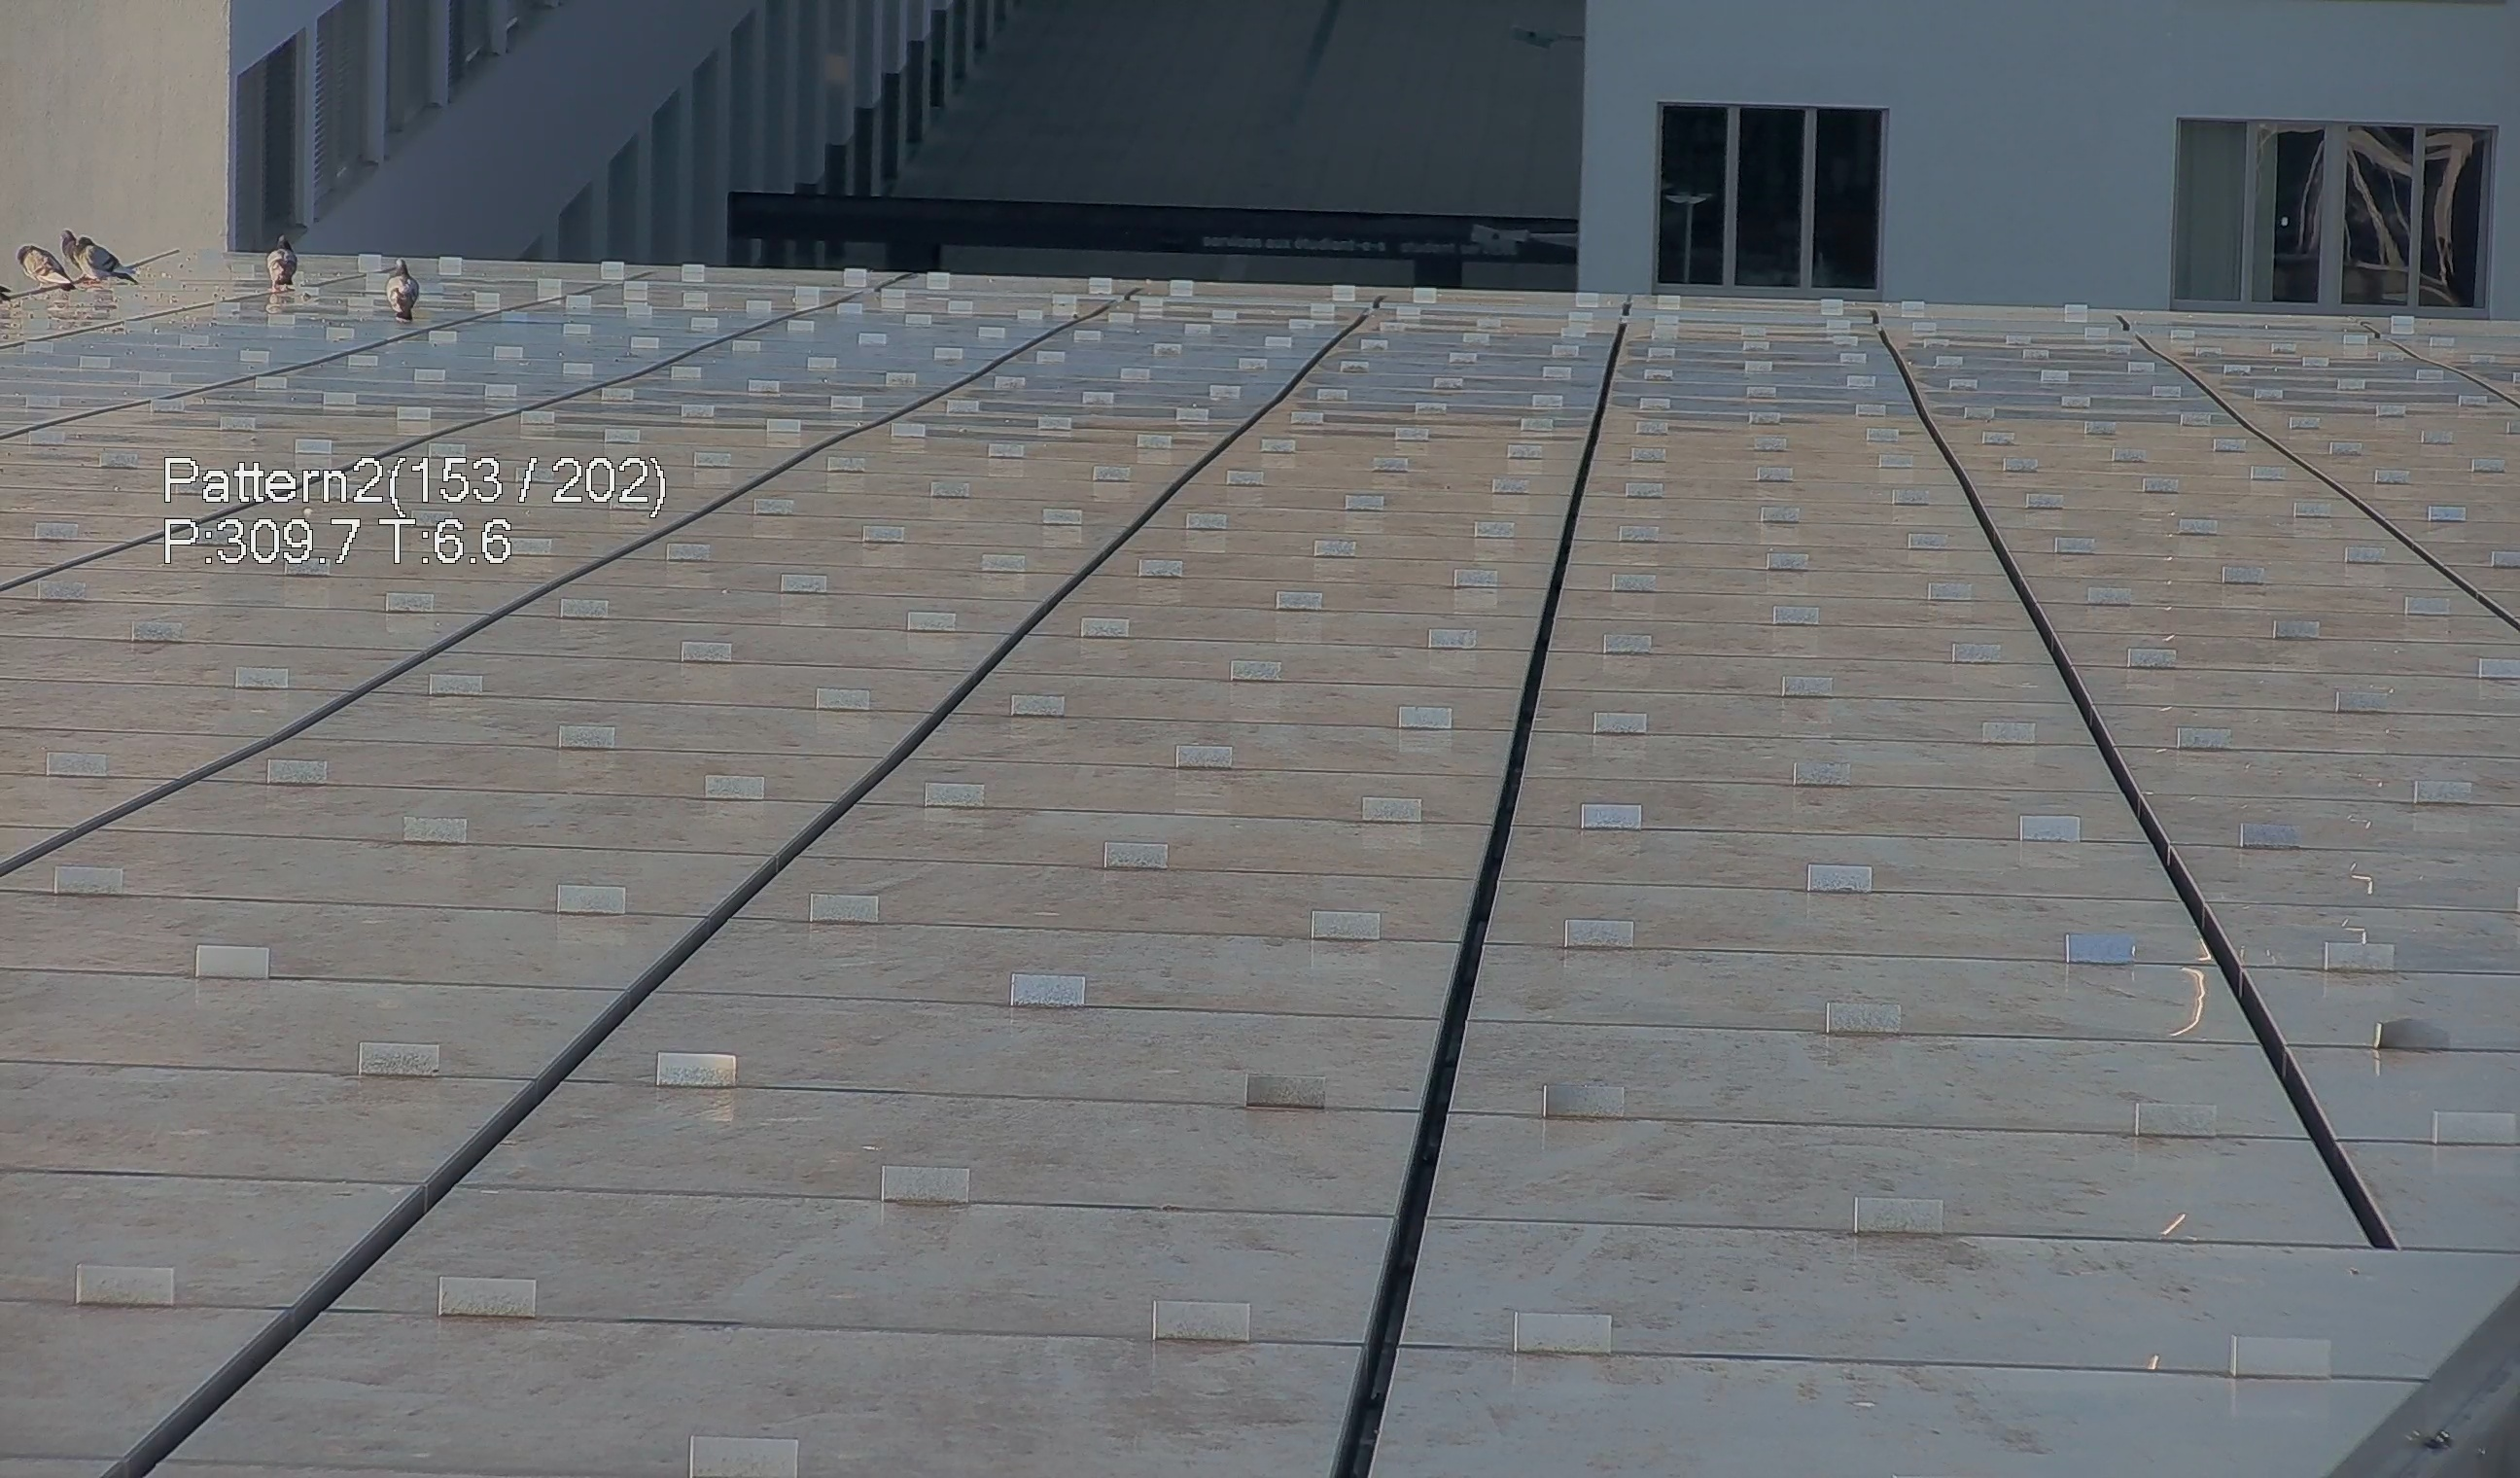Pigeon: (11, 241, 81, 297), (380, 255, 431, 331), (76, 232, 139, 289), (259, 232, 304, 303), (58, 227, 88, 266)
